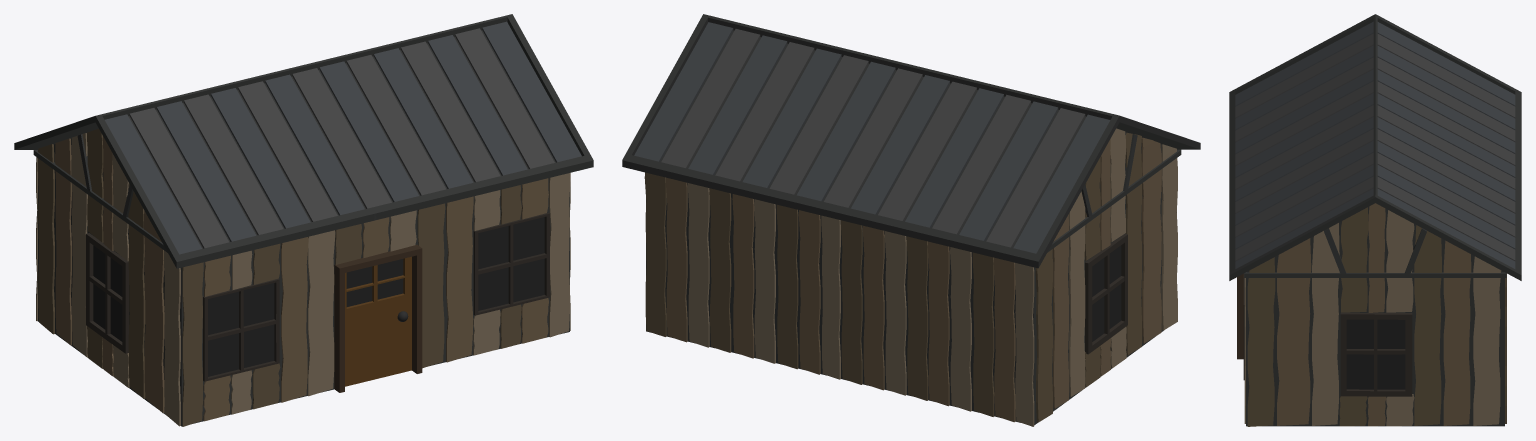
The model's file is house.fbx.
3 views of the same model, side by side, from view 1: azimuth 30°, elevation 25°; view 2: azimuth 150°, elevation 25°; view 3: azimuth 270°, elevation 25° (orthographic). The views are drawn at different scales.
Parts seen in each view (by area): view 1: roof, door, window_left, window_right, house, wood_plank.002, wood_plank.001, wood_plank.004, roof_5, roof_13, roof_9, roof_2 (+45 smaller); view 2: roof, house, roof_22, roof_30, roof_21, roof_27, roof_17, roof_24, roof_24.001, roof_28, roof_29, roof_20 (+35 smaller); view 3: roof, house, wood_plank.008, wood_plank.011, wood_plank.009, wood_plank.010, wood_plank.007, wood_plank.063, window_left_side, window_frame_rightside, wood_plank.032, wood_plank.031 (+39 smaller).
Boxes of the visible parts, box(x1,y1,x2,y2) form: roof: box(14, 14, 593, 268); door: box(345, 256, 411, 386); window_left: box(478, 217, 544, 310); window_right: box(208, 283, 274, 376); house: box(38, 138, 569, 426); wood_plank.002: box(307, 230, 335, 396); wood_plank.001: box(446, 196, 473, 362); wood_plank.004: box(281, 237, 308, 402); roof_5: box(373, 48, 473, 188); roof_13: box(156, 101, 256, 241); roof_9: box(265, 74, 364, 215); roof_2: box(455, 28, 554, 168); roof: box(622, 14, 1200, 268); house: box(646, 132, 1177, 424); roof_22: box(742, 48, 841, 188); roof_30: box(959, 101, 1058, 240); roof_21: box(715, 42, 814, 181); roof_27: box(878, 81, 976, 221); roof_17: box(661, 29, 760, 168); roof_24: box(769, 55, 868, 194); roof_24.001: box(797, 61, 895, 201); roof_28: box(905, 88, 1003, 227); roof_29: box(932, 94, 1030, 234); roof_20: box(688, 35, 787, 174); roof: box(1229, 14, 1521, 280); house: box(1246, 207, 1504, 426); wood_plank.008: box(1277, 238, 1311, 425); wood_plank.011: box(1414, 225, 1441, 425); wood_plank.009: box(1312, 223, 1339, 425); wood_plank.010: box(1443, 240, 1471, 425); wood_plank.007: box(1247, 257, 1275, 426); wood_plank.063: box(1473, 256, 1501, 425); window_left_side: box(1346, 319, 1405, 389); window_frame_rightside: box(1340, 313, 1412, 396); wood_plank.032: box(1341, 207, 1368, 312); wood_plank.031: box(1386, 210, 1414, 312).
Size of the model in its own units: 1851 by 1110 by 1250.
